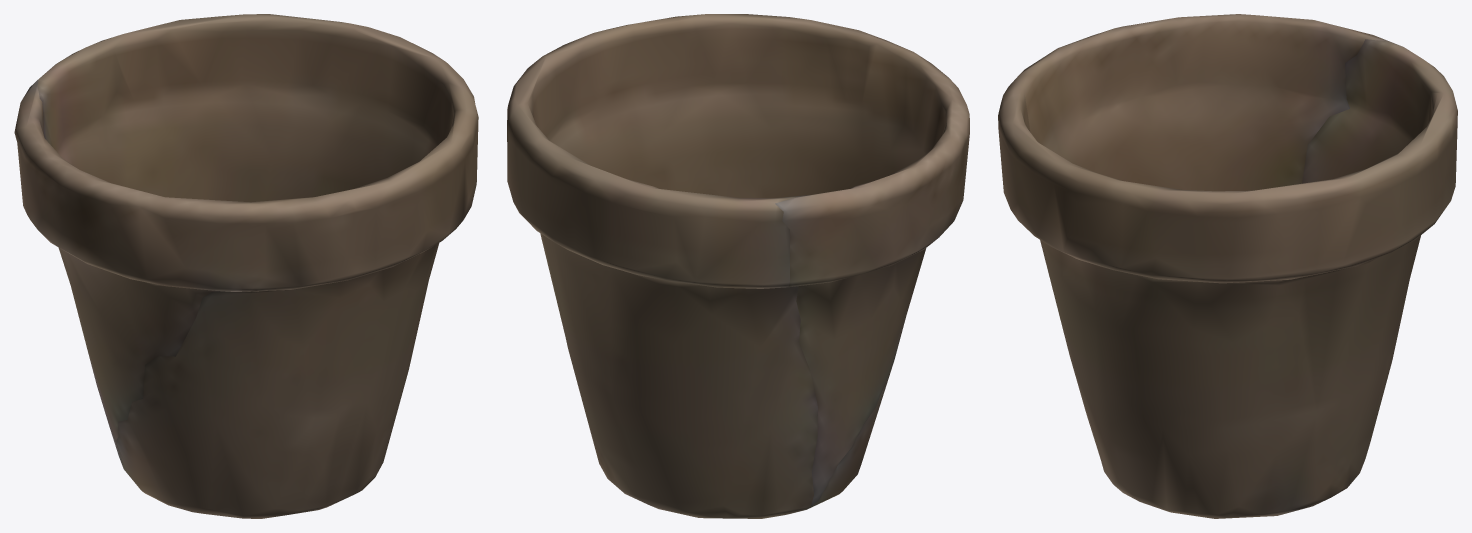
File: Central_Garden_Flower_Pot_Goo_425-medium.glb
3 views of the same model, side by side, from view 1: azimuth 30°, elevation 25°; view 2: azimuth 150°, elevation 25°; view 3: azimuth 270°, elevation 25° (orthographic).
Visible parts, largest first — view 1: Central_Garden_Flower_Pot_Goo_425; view 2: Central_Garden_Flower_Pot_Goo_425; view 3: Central_Garden_Flower_Pot_Goo_425.
Boxes of the visible parts, x1=… form: Central_Garden_Flower_Pot_Goo_425: x1=14, y1=14, x2=478, y2=518; Central_Garden_Flower_Pot_Goo_425: x1=507, y1=14, x2=969, y2=518; Central_Garden_Flower_Pot_Goo_425: x1=998, y1=14, x2=1457, y2=518.
Size of the model in its own units: 0.1151 by 0.1006 by 0.1136.
Materials: 1 (1 with a texture image).
